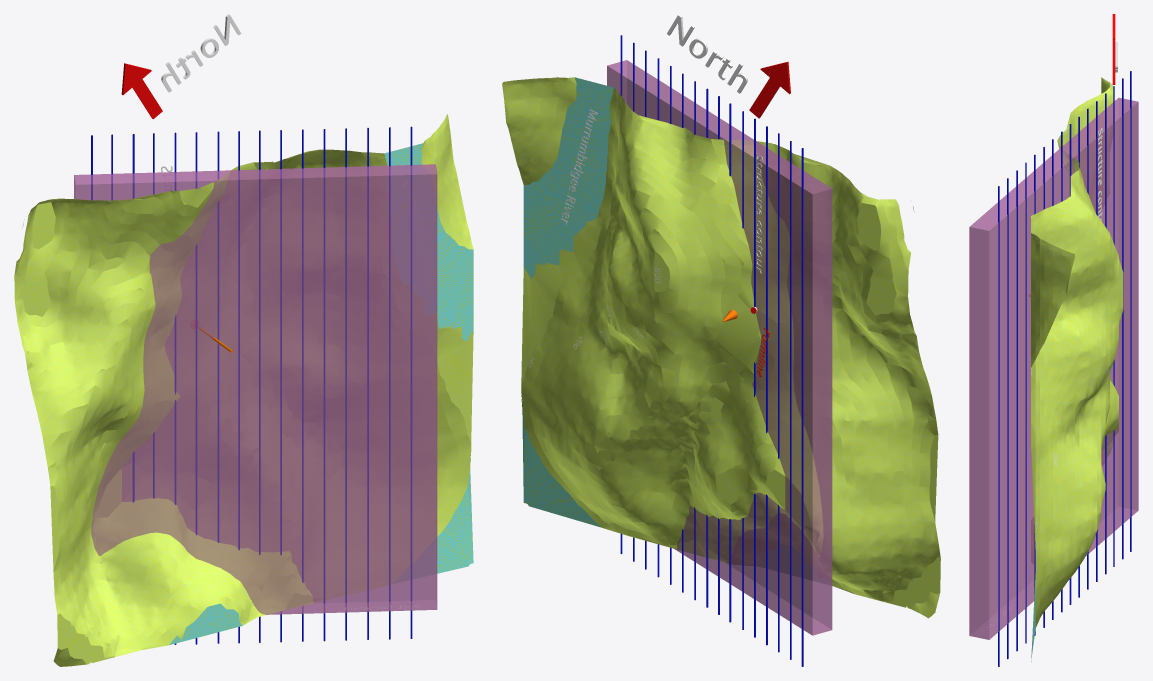
The model's file is Yass_Topo_6.dae.
The picture shows the model from 3 angles, left to right: view 1: azimuth 30°, elevation 25°; view 2: azimuth 150°, elevation 25°; view 3: azimuth 270°, elevation 25°; orthographic projection. The views are drawn at different scales.
Visible parts, largest first — view 1: group_8, group_4 (×5), group_7 (×7), Extruded_Arrow; view 2: group_4 (×4), group_8, group_7 (×5), Extruded_Arrow; view 3: group_8, group_4 (×2), group_7 (×9), Extruded_Arrow.
Part boxes in pixels (box(x1,y1,x2,y2)): group_8: box(74, 164, 437, 614); group_4 (×5): box(14, 114, 473, 666); group_7 (×7): box(238, 127, 390, 643); Extruded_Arrow: box(121, 63, 162, 119); group_4 (×4): box(502, 77, 940, 618); group_8: box(607, 60, 832, 635); group_7 (×5): box(754, 118, 803, 666); Extruded_Arrow: box(749, 61, 790, 118); group_8: box(969, 97, 1138, 639); group_4 (×2): box(1031, 77, 1123, 627); group_7 (×9): box(998, 71, 1131, 666); Extruded_Arrow: box(1112, 14, 1115, 84).
Size of the model in its own units: 192185 by 71404 by 265648.
